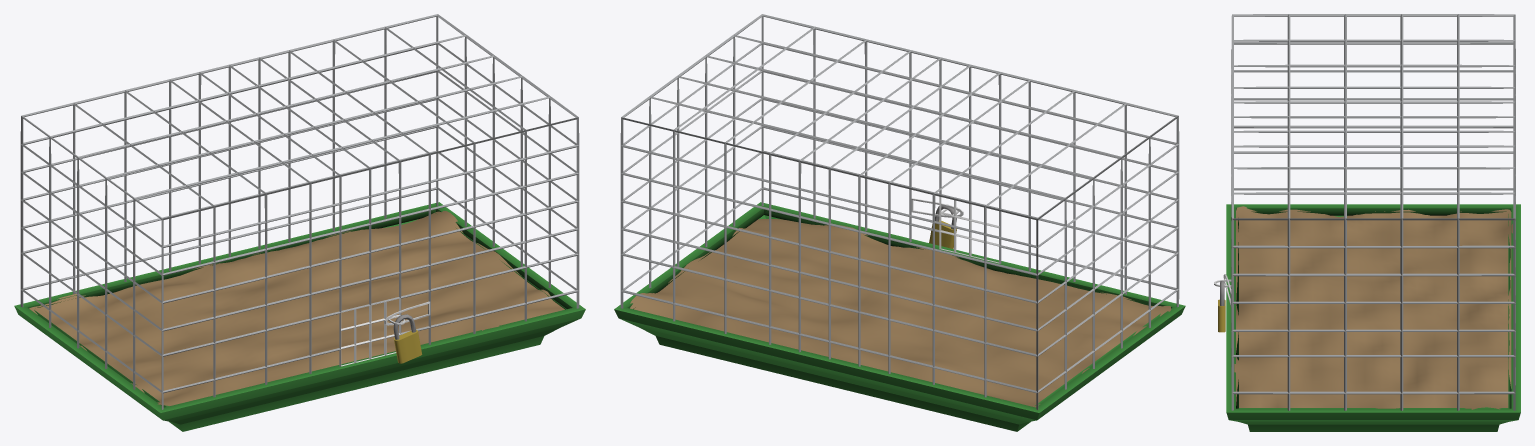
Rendered from gaiola.fbx.
The picture shows the model from 3 angles, left to right: view 1: azimuth 30°, elevation 25°; view 2: azimuth 150°, elevation 25°; view 3: azimuth 270°, elevation 25°; orthographic projection.
Parts seen in each view (by area): view 1: GradeGaiola, PortaGaiola, Cadeado; view 2: GradeGaiola, PortaGaiola, Cadeado; view 3: GradeGaiola, Cadeado.
Boxes of the visible parts, box(x1,y1,x2,y2) form: GradeGaiola: box(14, 14, 585, 431); PortaGaiola: box(341, 298, 405, 366); Cadeado: box(393, 314, 422, 363); GradeGaiola: box(614, 14, 1185, 431); PortaGaiola: box(939, 196, 999, 263); Cadeado: box(929, 204, 956, 248); GradeGaiola: box(1226, 14, 1520, 431); Cadeado: box(1218, 280, 1225, 332).
Bounding box in the file's own units: 1127 × 576 × 701.
